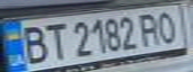1: (90, 16, 109, 55)
2: (69, 17, 93, 57), (118, 12, 142, 51)
8: (103, 15, 124, 53)
B: (15, 21, 51, 65)
O: (151, 8, 181, 44)
P: (136, 10, 163, 46)
T: (39, 20, 69, 61)
